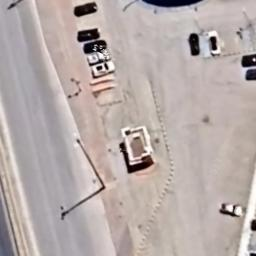SUV: (88, 60, 118, 76)
sedan: (206, 29, 224, 59), (184, 32, 202, 59), (70, 0, 99, 15), (239, 52, 256, 68)
